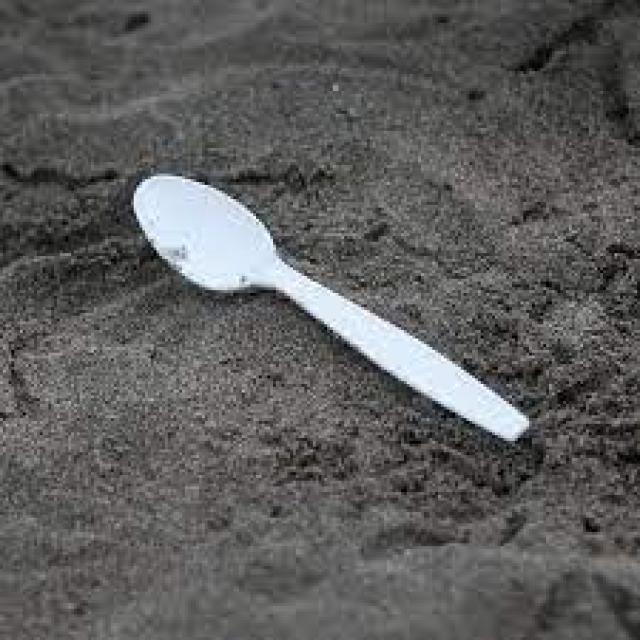nhua: (137, 176, 532, 442)
